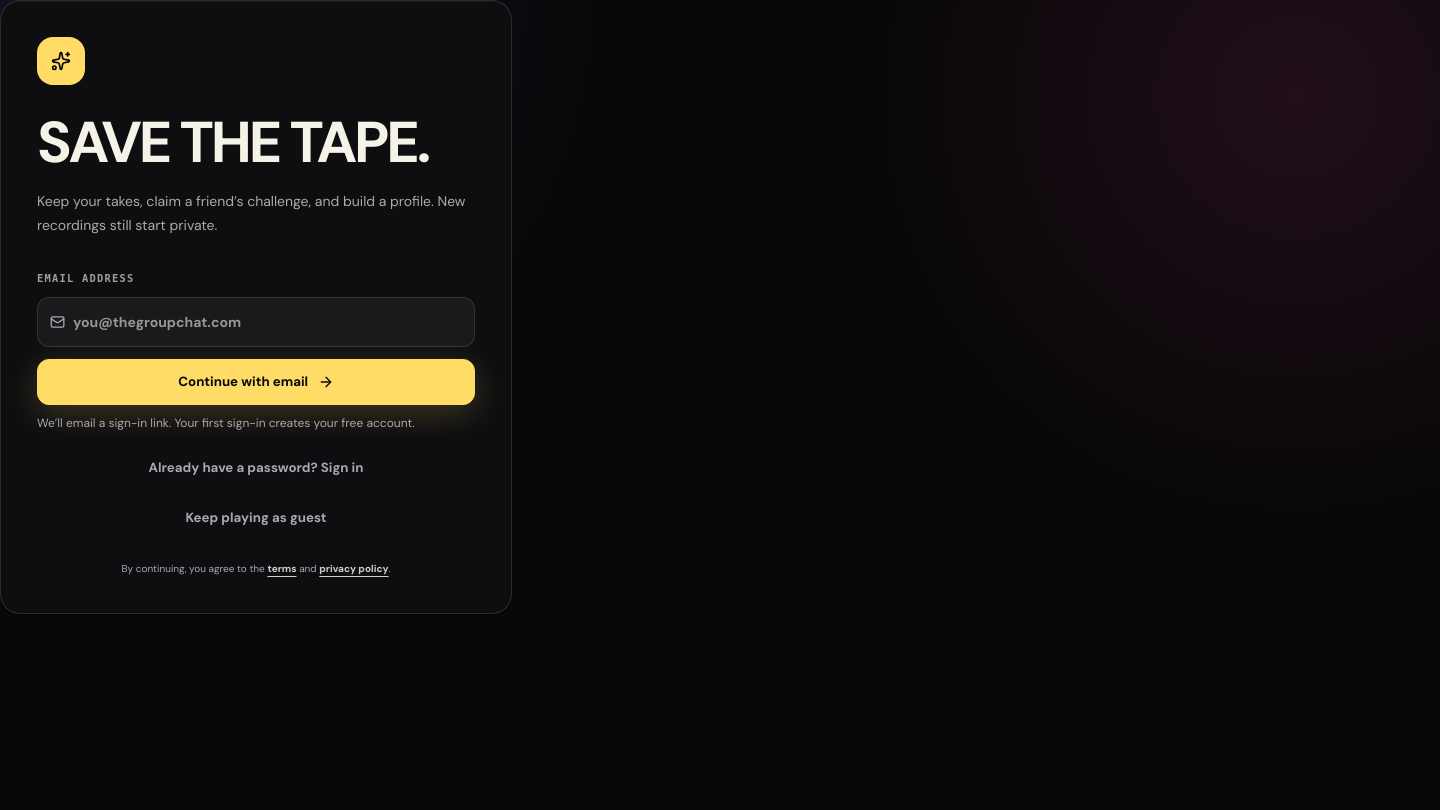
Test: connected sign-in recovery › prepares recovery for verified email with the exact challenge return destination
The width and height of the screenshot is (1440, 810).
Click the button "Already have a password? Sign in": point(256, 468) [37, 445, 475, 491]
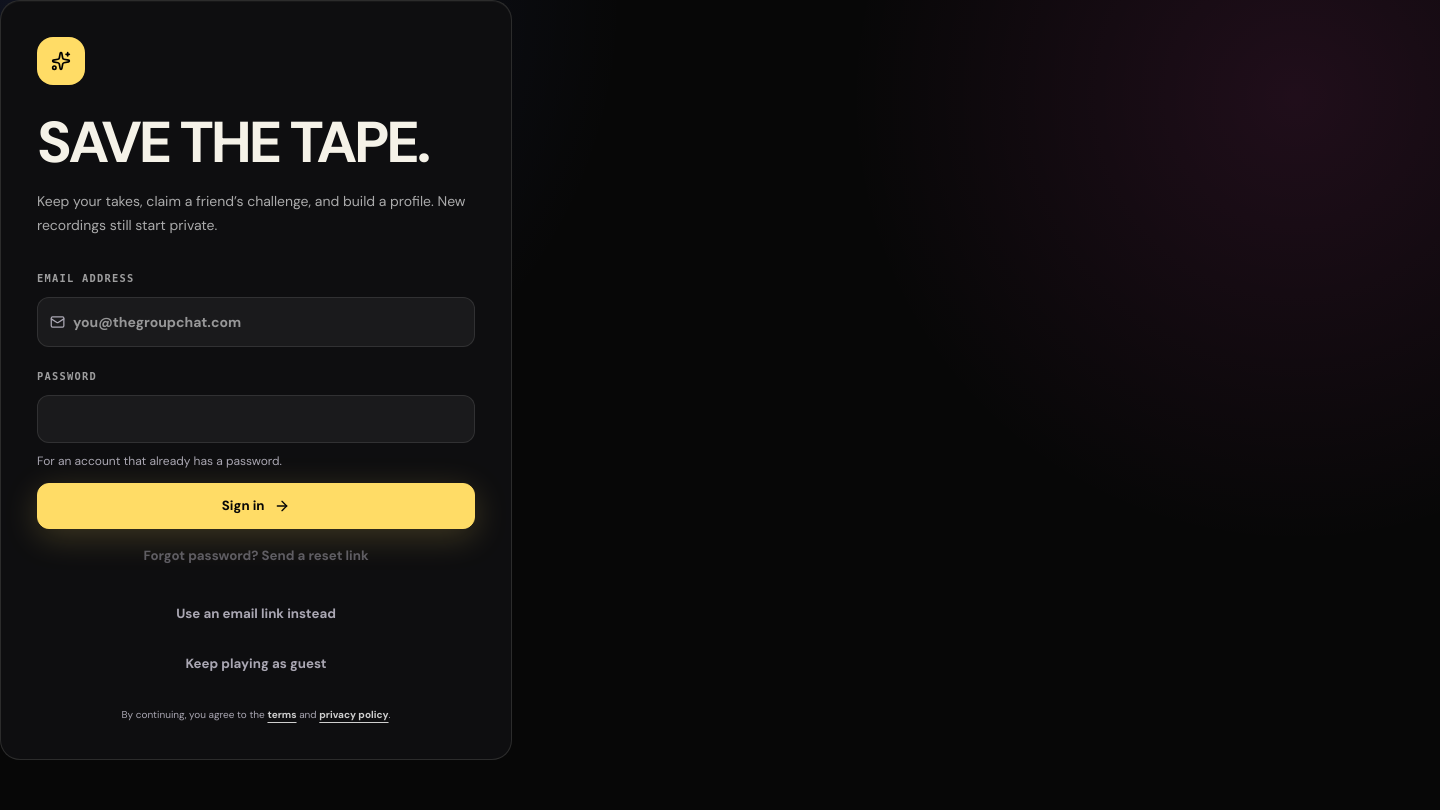
In the field labelled "Email address": point(268, 322) [73, 298, 462, 346], type "person@example.com"
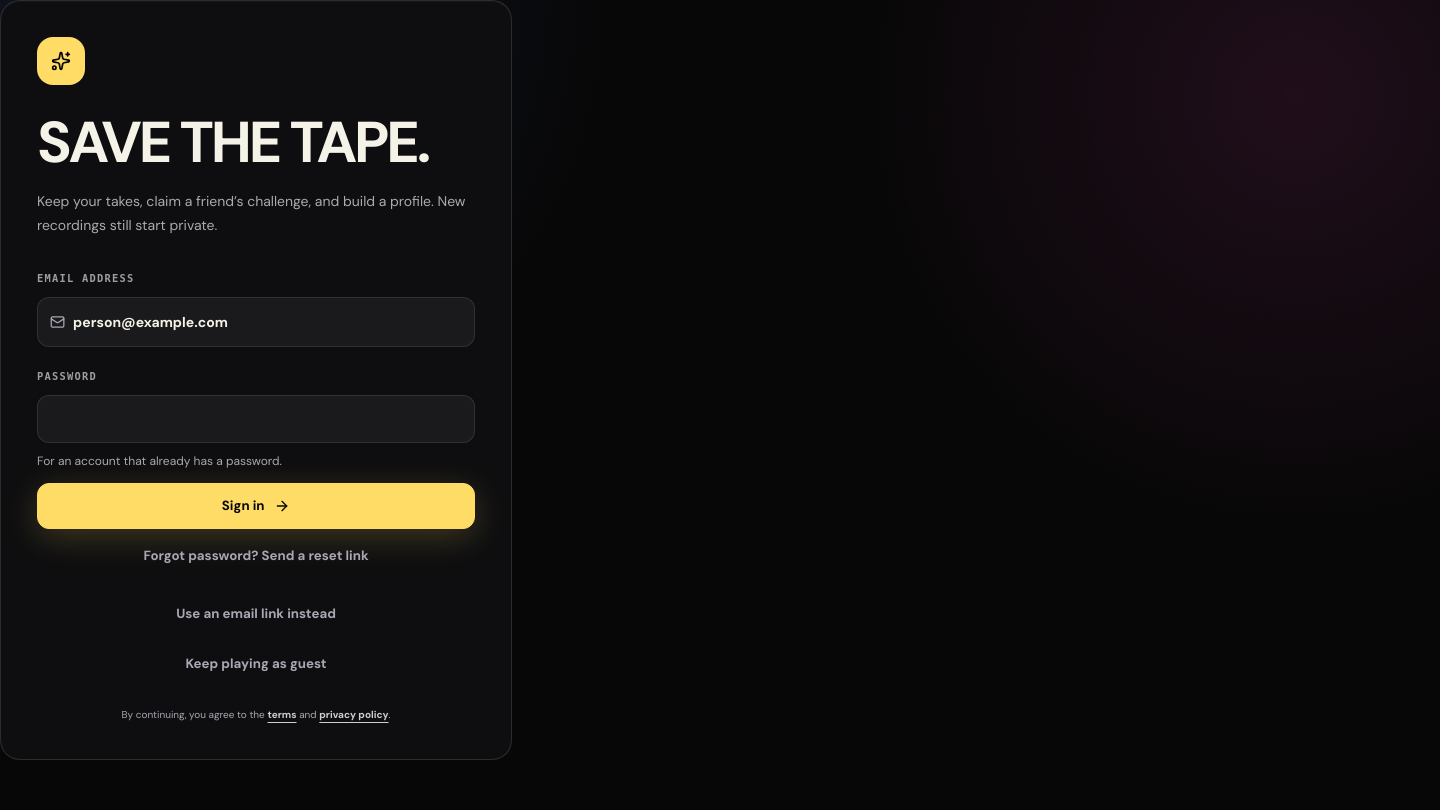
Click the button "Forgot password? Send a reset link": point(256, 556) [37, 533, 475, 579]
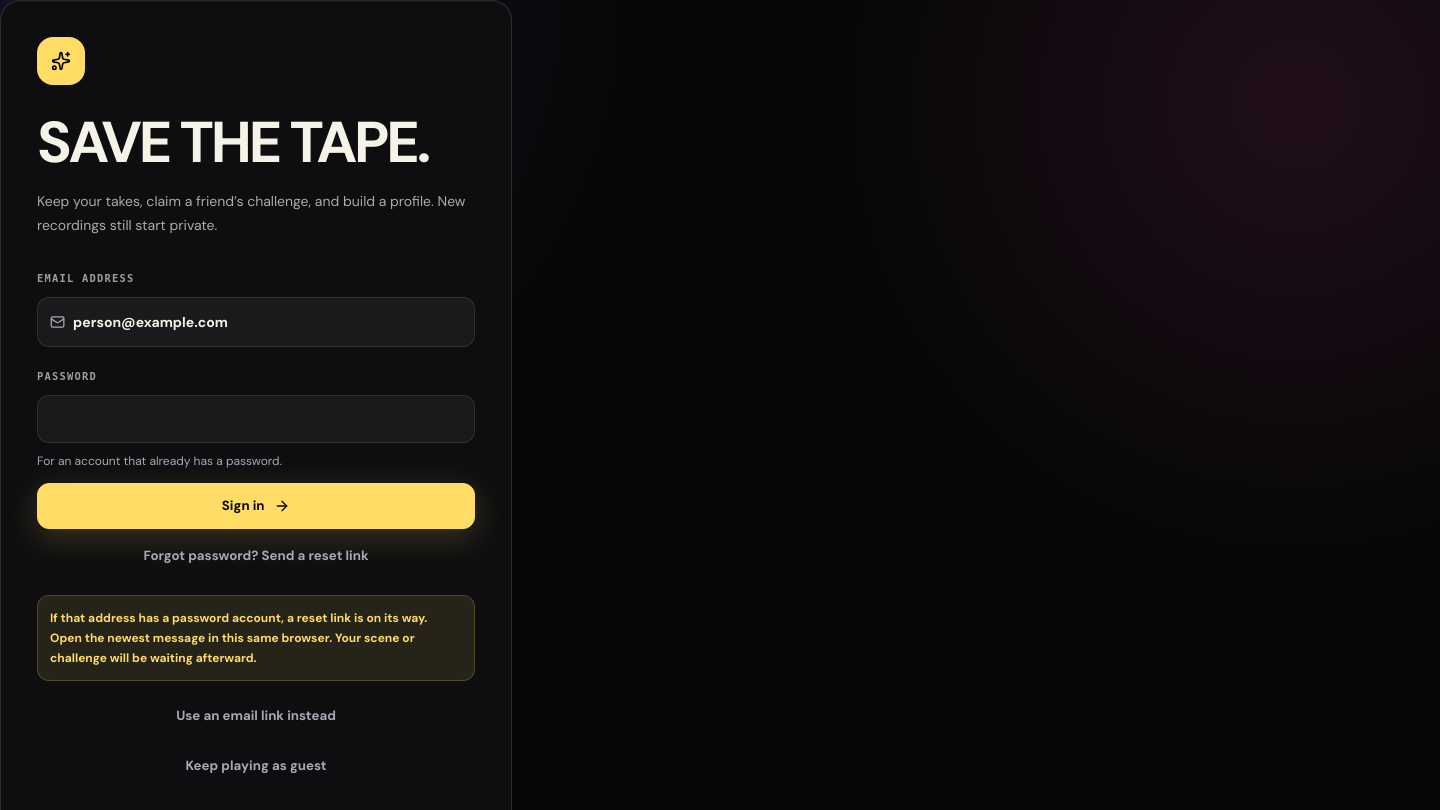
Result: the message shows "If that address has a password account" at [50, 610, 427, 666]
